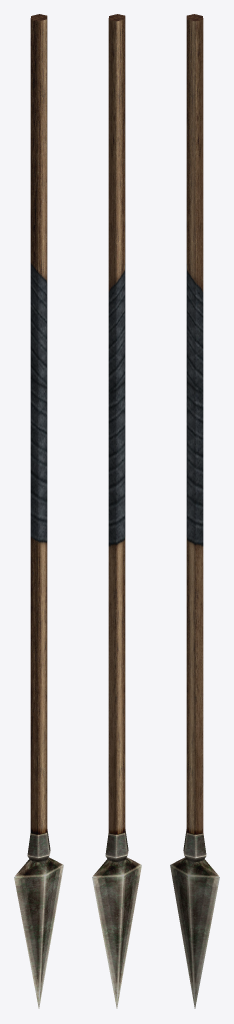
Rendered from weapon_lance_max.fbx.
The picture shows the model from 3 angles, left to right: view 1: azimuth 30°, elevation 25°; view 2: azimuth 210°, elevation 25°; view 3: azimuth 330°, elevation 25°; orthographic projection.
Parts seen in each view (by area): view 1: Cylinder01; view 2: Cylinder01; view 3: Cylinder01.
Boxes of the visible parts, x1=… form: Cylinder01: x1=14, y1=14, x2=63, y2=1008; Cylinder01: x1=92, y1=14, x2=141, y2=1008; Cylinder01: x1=170, y1=14, x2=219, y2=1008.
Size of the model in its own units: 12.31 by 234 by 5.42.
